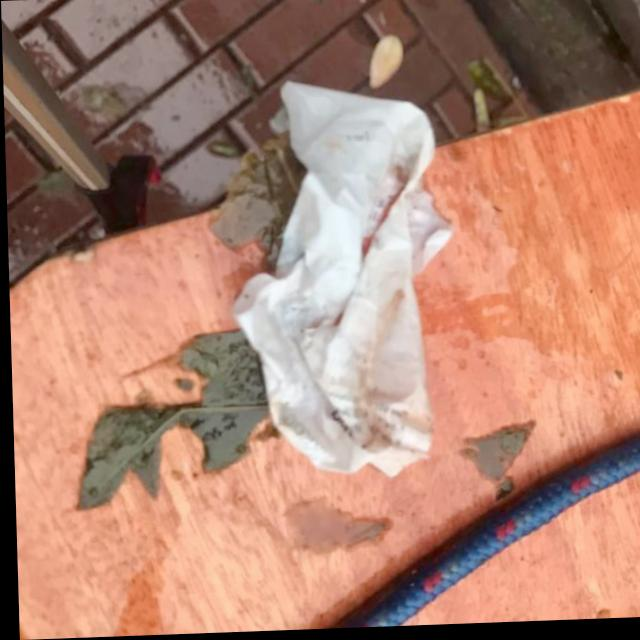Paper: (219, 75, 460, 488)
